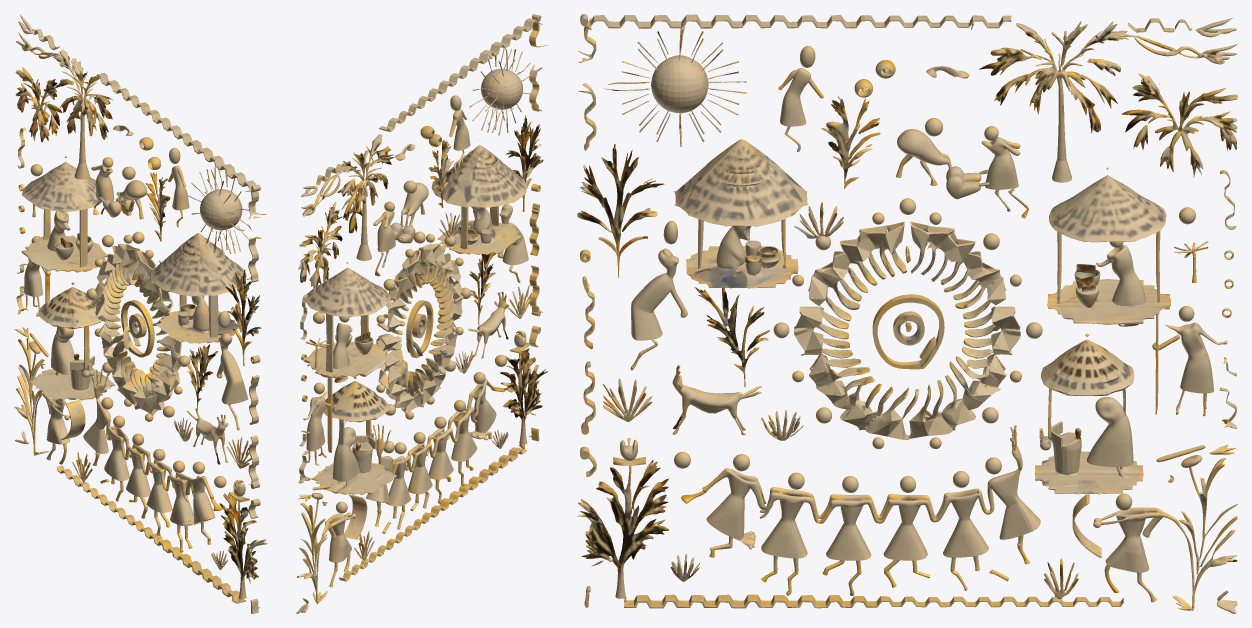
File: warliPaintings.glb
3 views of the same model, side by side, from view 1: azimuth 30°, elevation 25°; view 2: azimuth 150°, elevation 25°; view 3: azimuth 270°, elevation 25° (orthographic). The views are drawn at different scales.
Parts seen in each view (by area): view 1: tripo_node_0745af6a-936e-4a62-afb8-564bbd892ced; view 2: tripo_node_0745af6a-936e-4a62-afb8-564bbd892ced; view 3: tripo_node_0745af6a-936e-4a62-afb8-564bbd892ced.
Boxes of the visible parts, x1,y1,x2,y2 form: tripo_node_0745af6a-936e-4a62-afb8-564bbd892ced: (14, 14, 267, 613); tripo_node_0745af6a-936e-4a62-afb8-564bbd892ced: (296, 14, 548, 613); tripo_node_0745af6a-936e-4a62-afb8-564bbd892ced: (577, 14, 1237, 613).
Size of the model in its own units: 0.2013 by 0.9934 by 1.
Materials: 1 (1 with a texture image).
